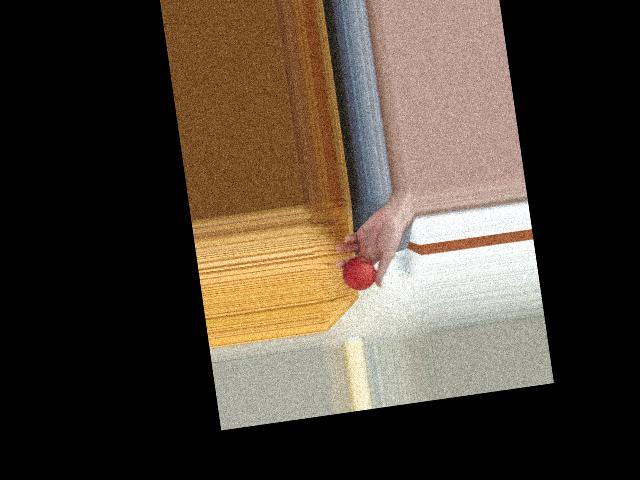apple: (340, 253, 383, 295)
